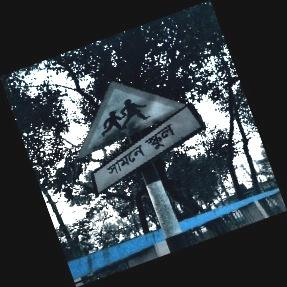School-in-front: (78, 81, 204, 194)
